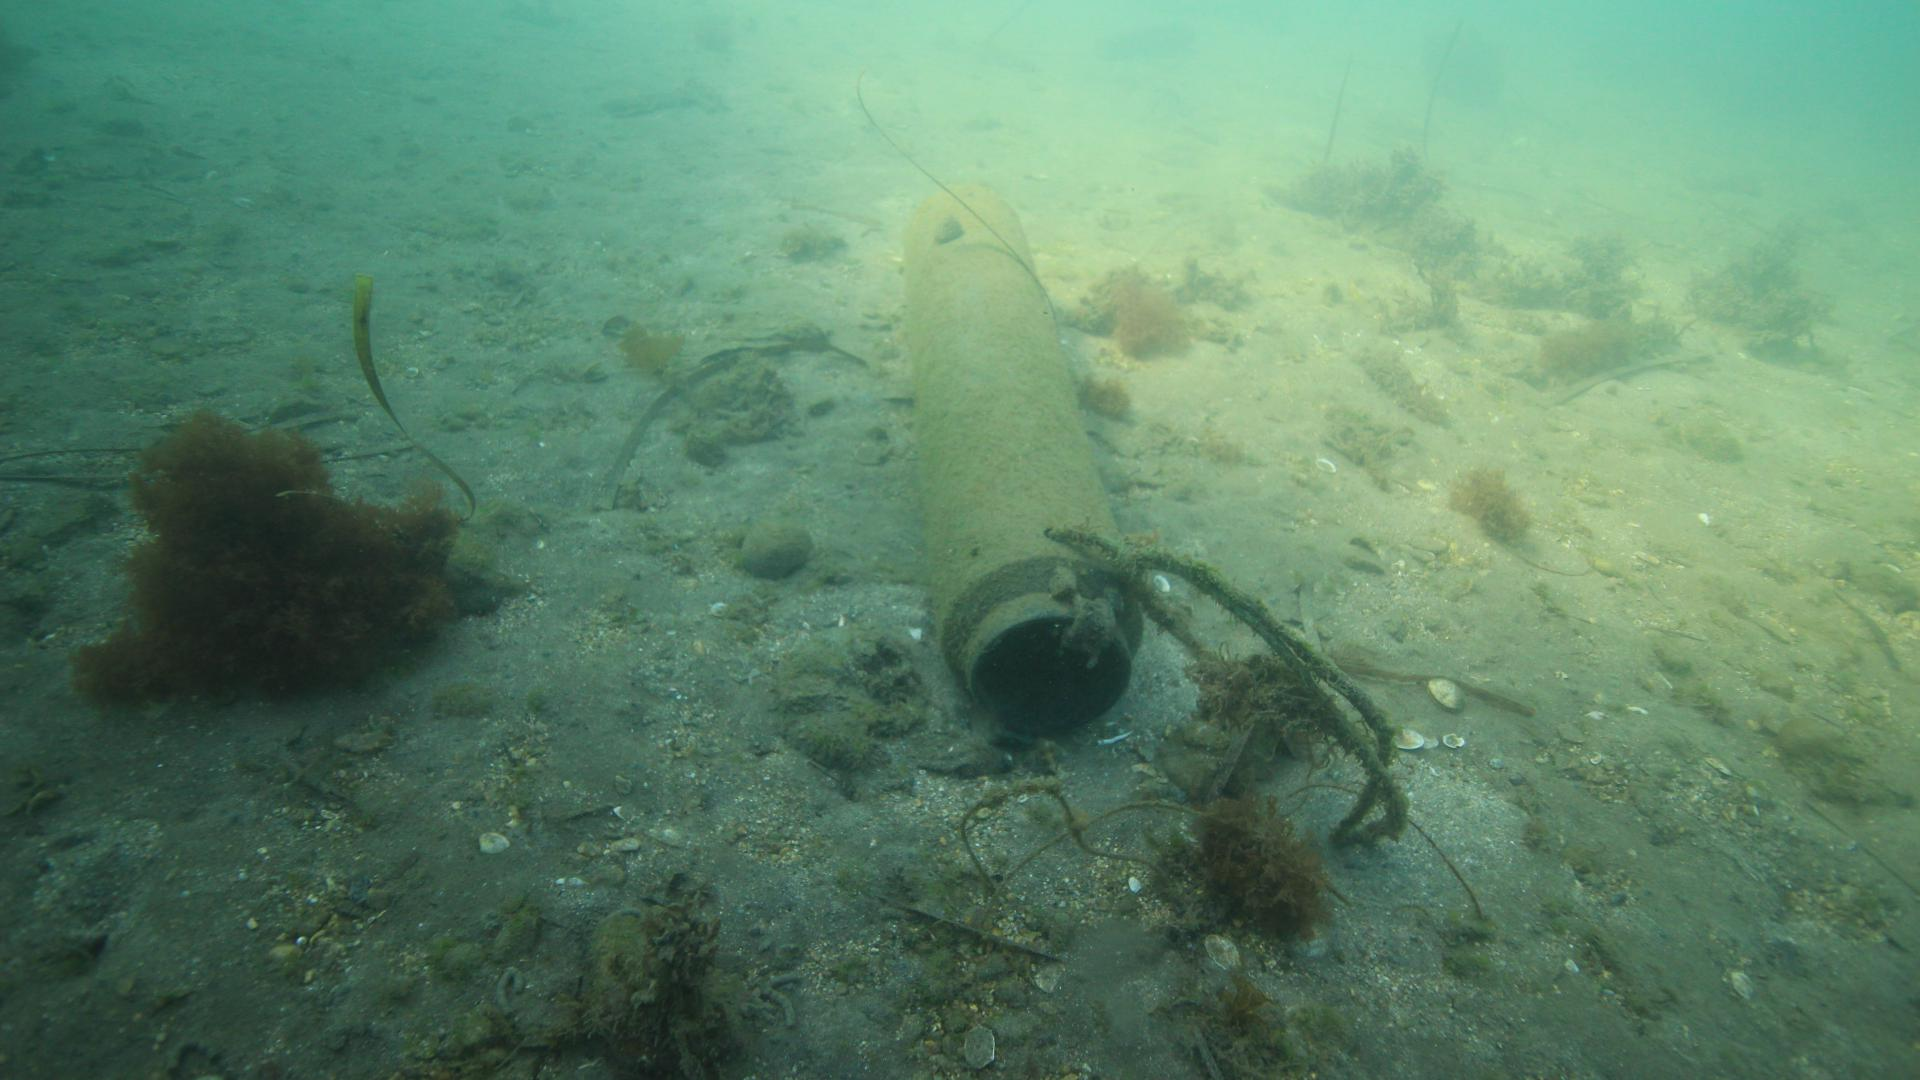bundle of ropes: (1039, 521, 1411, 852)
eel fish trap: (899, 182, 1147, 738)
